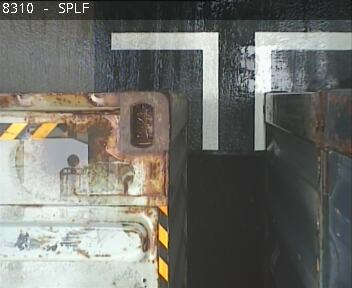groundmarker_1: (111, 31, 352, 150)
